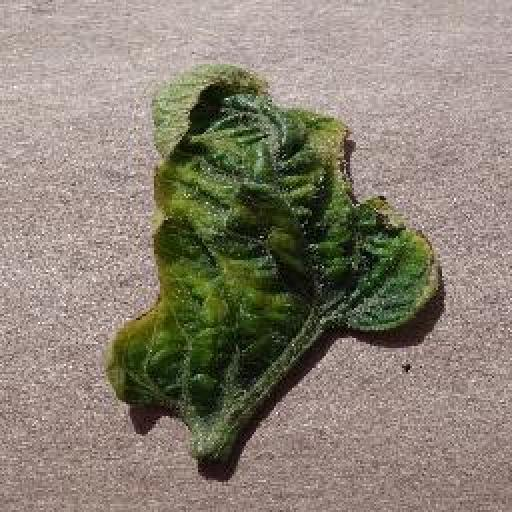Yellow Leaf Curl Virus: (103, 68, 439, 423)
